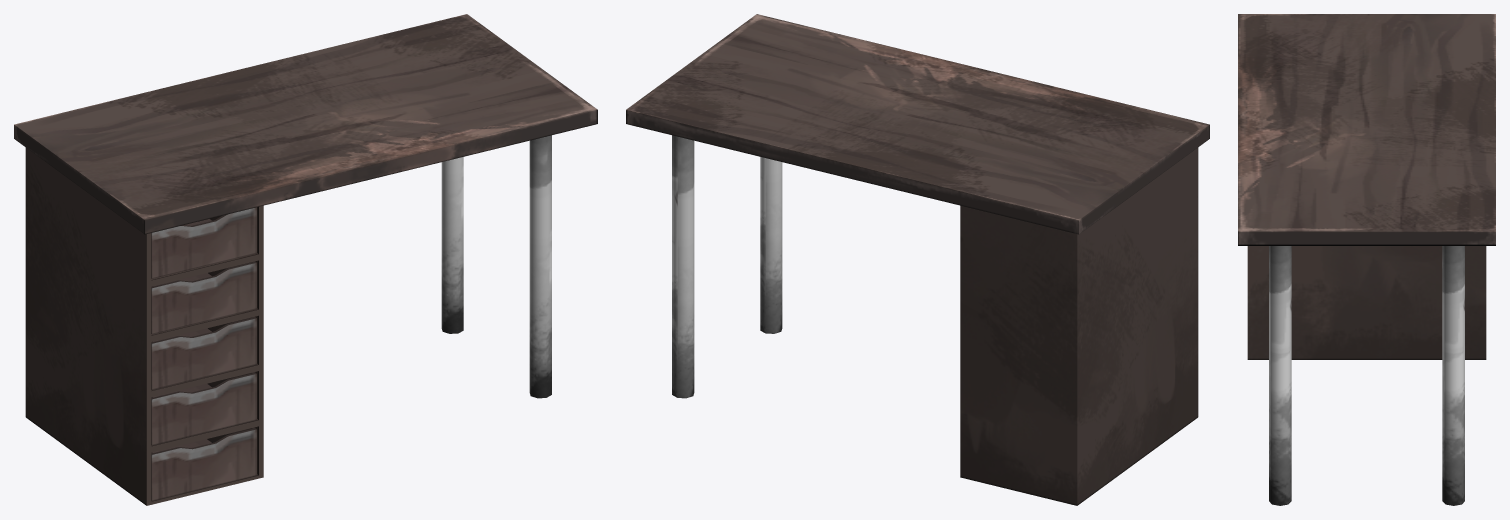
Rendered from OfficeTable_Asset.fbx.
3 renders of one model, left to right at view 1: azimuth 30°, elevation 25°; view 2: azimuth 150°, elevation 25°; view 3: azimuth 270°, elevation 25°, orthographic.
Parts seen in each view (by area): view 1: Table, DrawerTower, TableLegFront, Drawer5, Drawer, Drawer3, Drawer2, Drawer1, TableLegBack; view 2: Table, DrawerTower, TableLegBack, TableLegFront; view 3: Table, DrawerTower, TableLegFront, TableLegBack.
Part boxes in pixels (<box>): Table: <box>14,14,597,234</box>; DrawerTower: <box>25,147,263,505</box>; TableLegFront: <box>529,135,551,398</box>; Drawer5: <box>151,427,256,500</box>; Drawer: <box>151,372,256,445</box>; Drawer3: <box>151,316,256,389</box>; Drawer2: <box>151,261,256,334</box>; Drawer1: <box>151,207,256,278</box>; TableLegBack: <box>441,157,463,333</box>; Table: <box>626,14,1209,234</box>; DrawerTower: <box>960,147,1198,505</box>; TableLegBack: <box>672,135,694,398</box>; TableLegFront: <box>760,157,782,333</box>; Table: <box>1238,14,1495,245</box>; DrawerTower: <box>1247,246,1486,359</box>; TableLegFront: <box>1269,246,1291,505</box>; TableLegBack: <box>1442,246,1464,505</box>.
Bounding box in the file's own units: 120 × 60 × 73.62.
